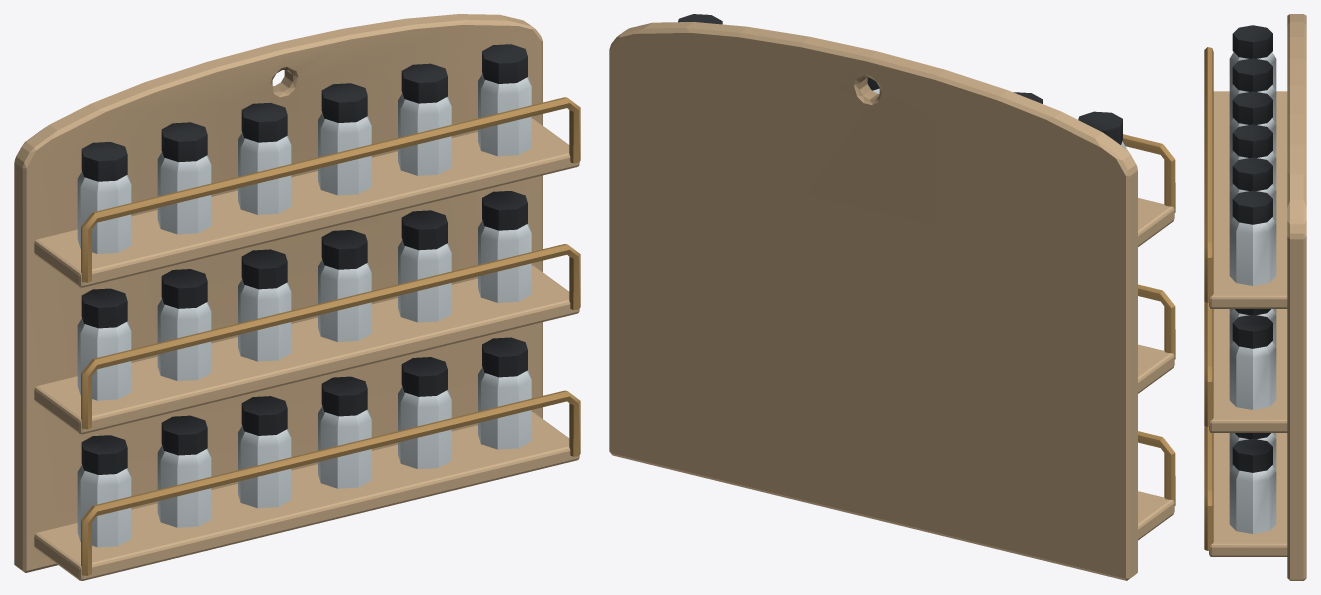
File: spiceRack.glb
The picture shows the model from 3 angles, left to right: view 1: azimuth 30°, elevation 25°; view 2: azimuth 150°, elevation 25°; view 3: azimuth 270°, elevation 25°; orthographic projection. The views are drawn at different scales.
Visible parts, largest first — view 1: body; view 2: body; view 3: body.
Part boxes in pixels (x1,y1,x2,y2): body: (14, 14, 580, 580); body: (609, 14, 1175, 580); body: (1204, 14, 1306, 580).
Size of the model in its own units: 0.52 by 0.44 by 0.1048.
